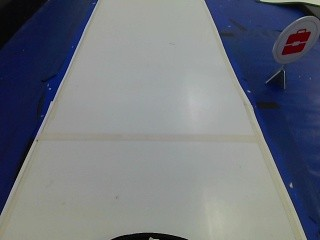company: (273, 16, 318, 63)
